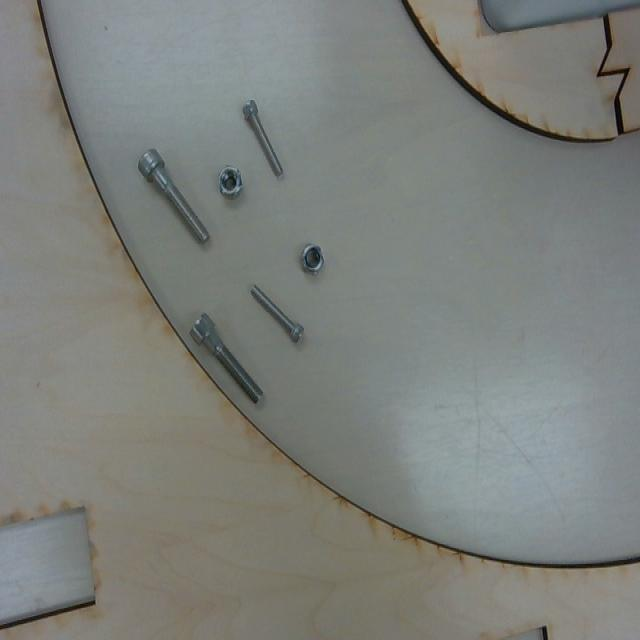Big Bolt: (186, 307, 268, 412), (137, 144, 212, 246)
Metal Nut: (216, 166, 244, 201), (302, 241, 326, 277)
Small Bolt: (246, 278, 308, 349), (239, 96, 288, 182)
